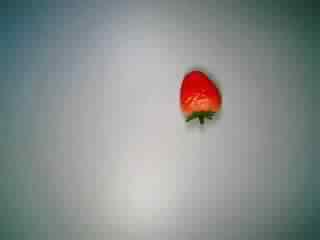strawberry: (168, 65, 226, 131)
